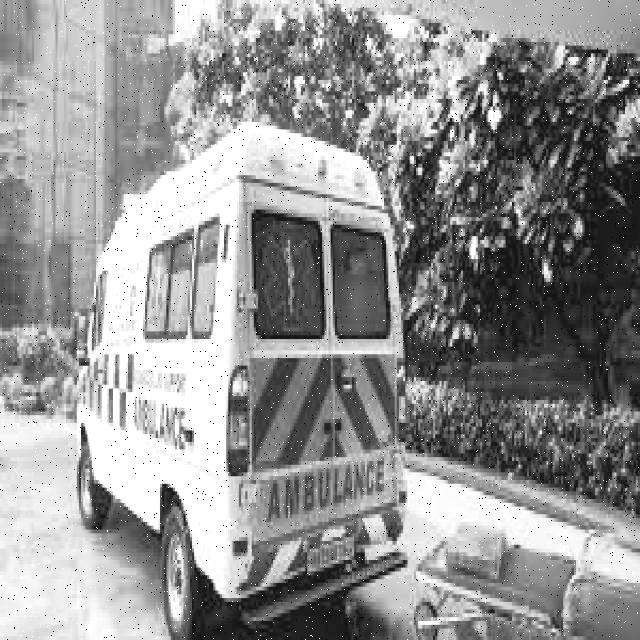LCV: (224, 124, 409, 623)
